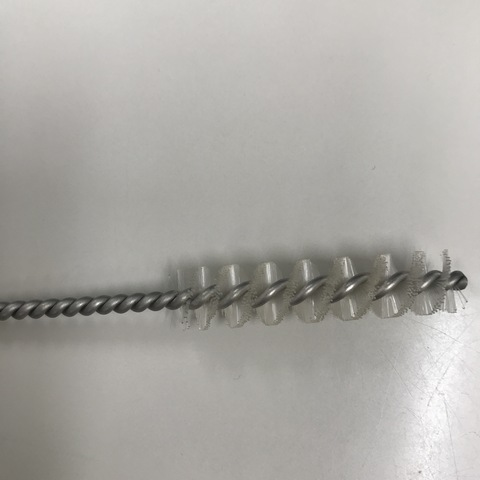Twist Brush-B: (1, 250, 464, 341)
